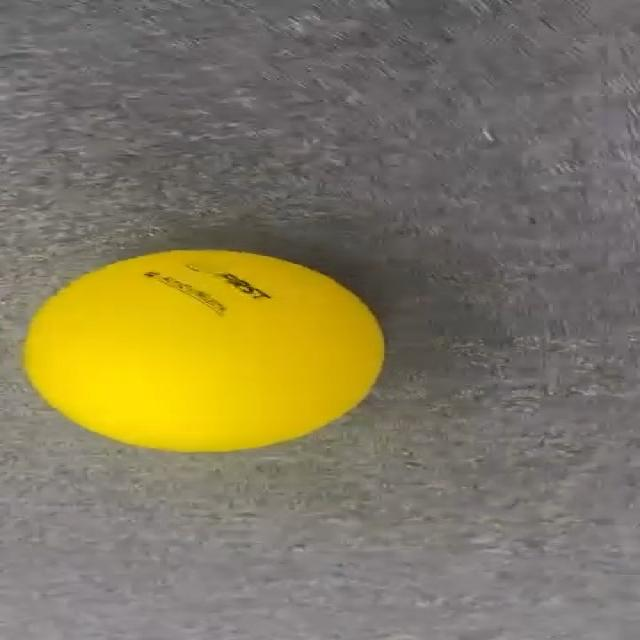Fuels: (23, 249, 382, 452)
